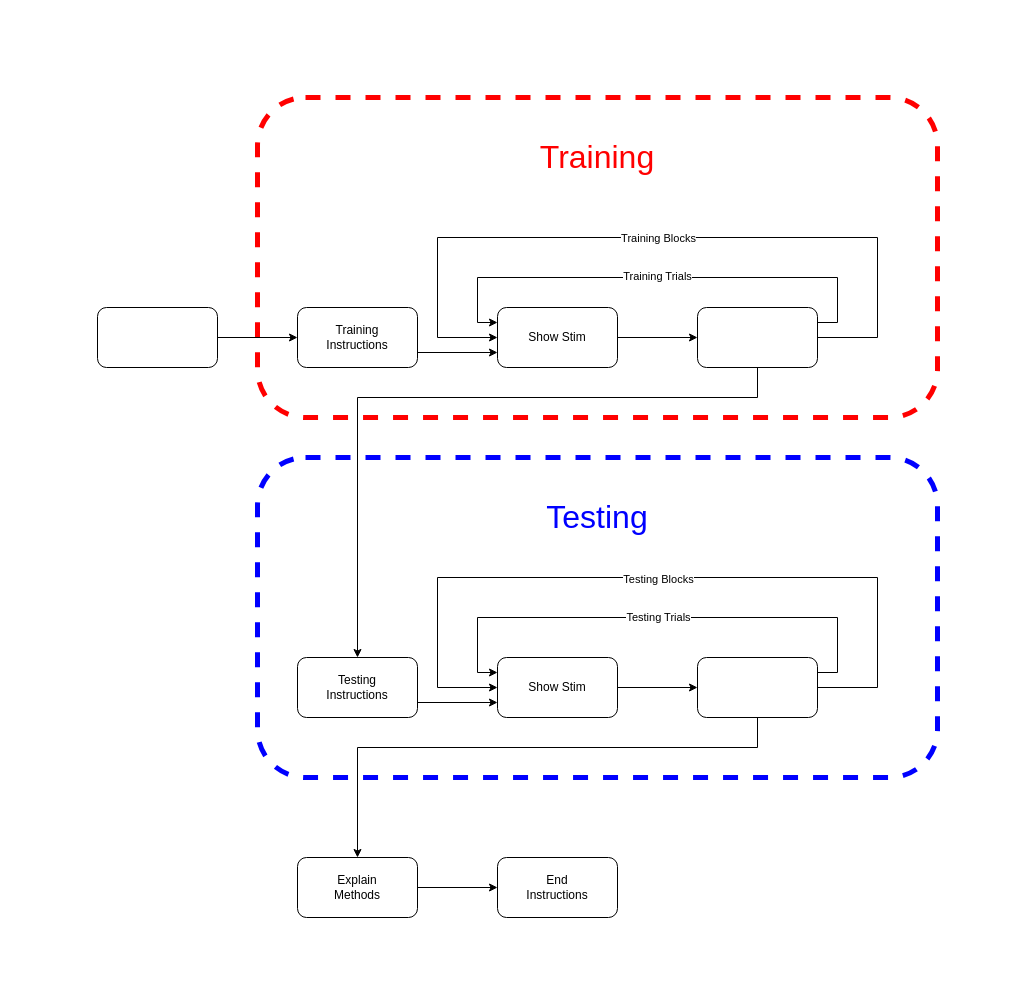
This 1034x994 diagram has some shape labels left out. Each missing label, with the centre of its shape:
"Feedback" belongs at point 757,337.
"Rate Confidence" belongs at point 757,687.
"Setup" belongs at point 157,337.
